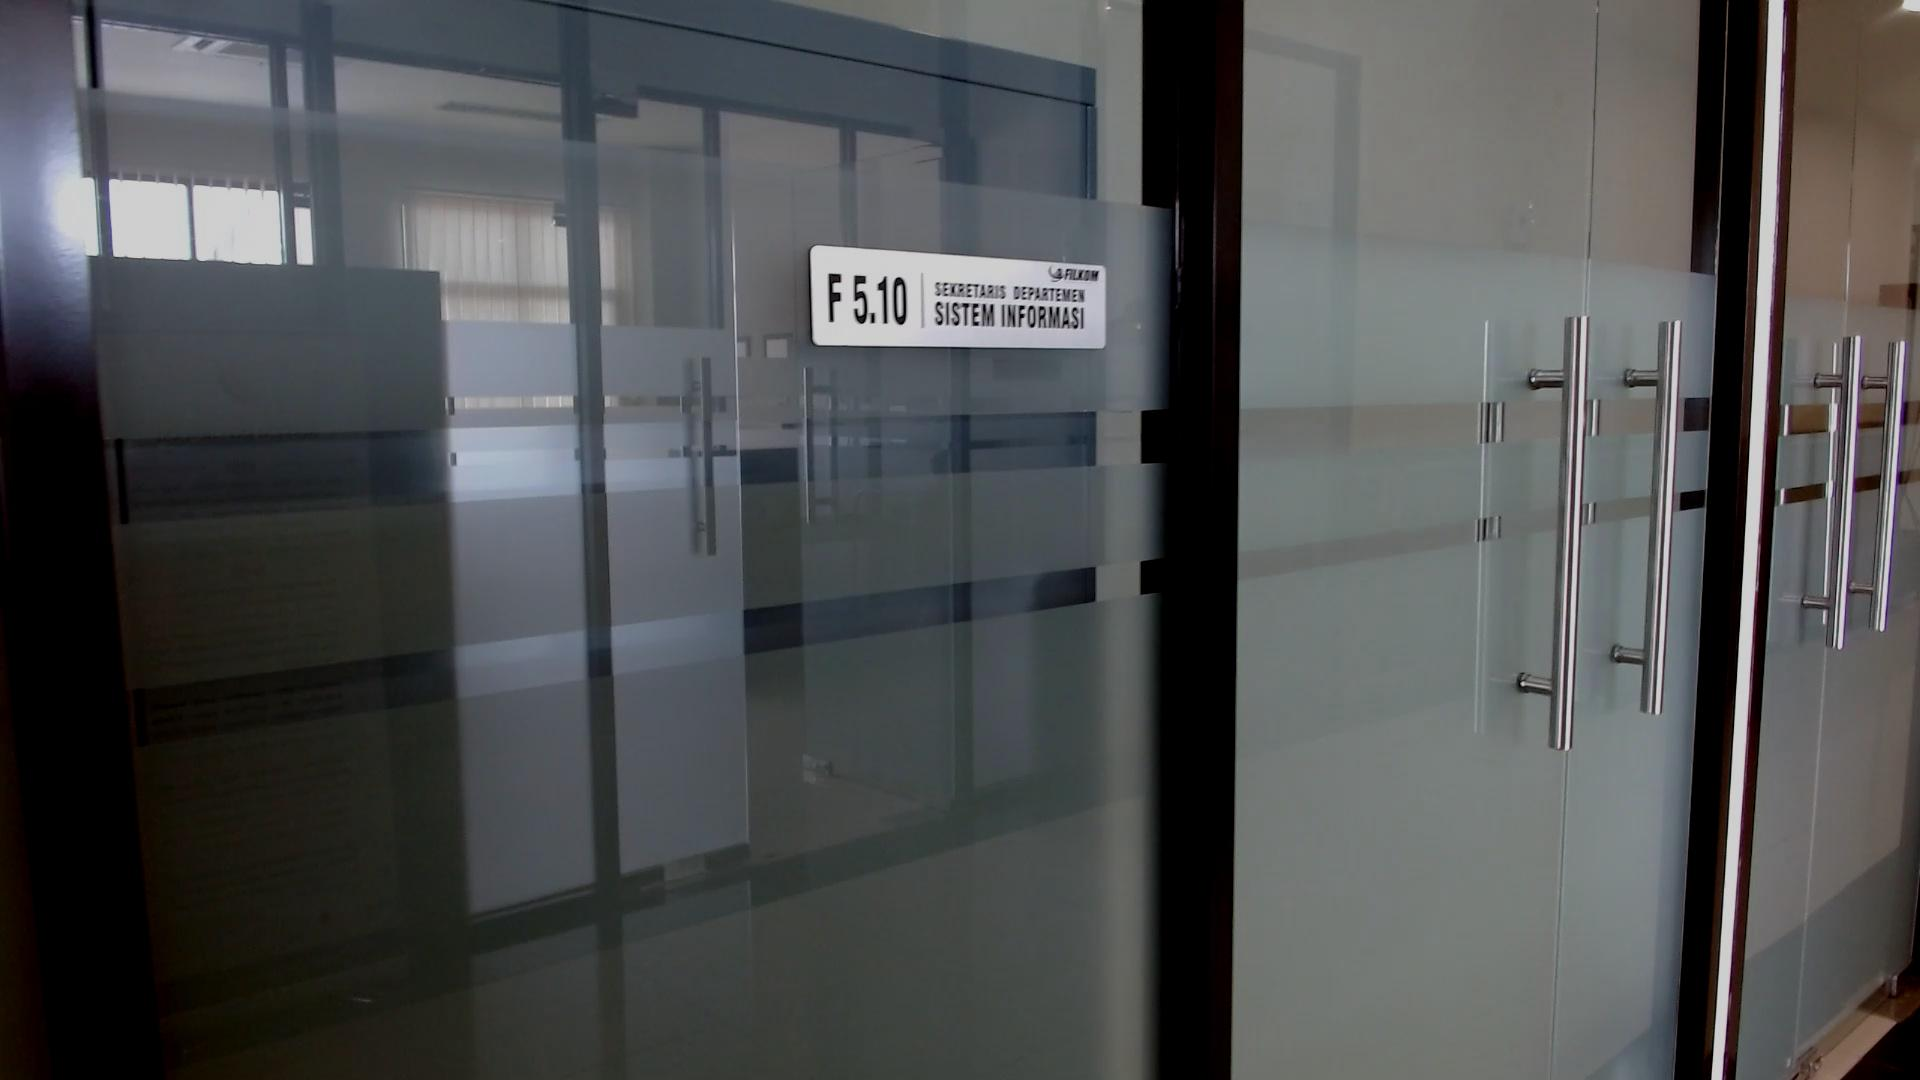plate: (808, 243, 1108, 351)
